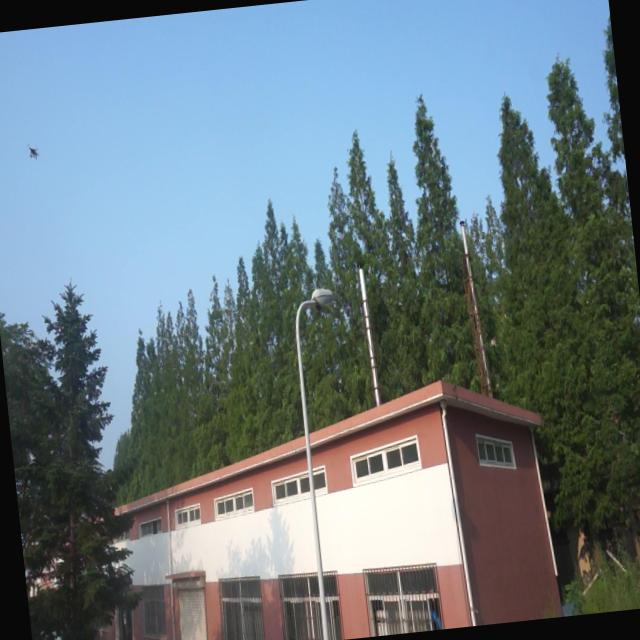drone: (26, 140, 41, 165)
